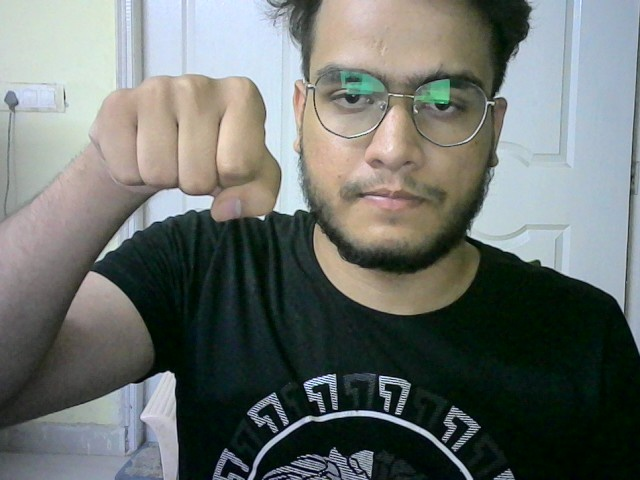Yes: (83, 68, 291, 236)
